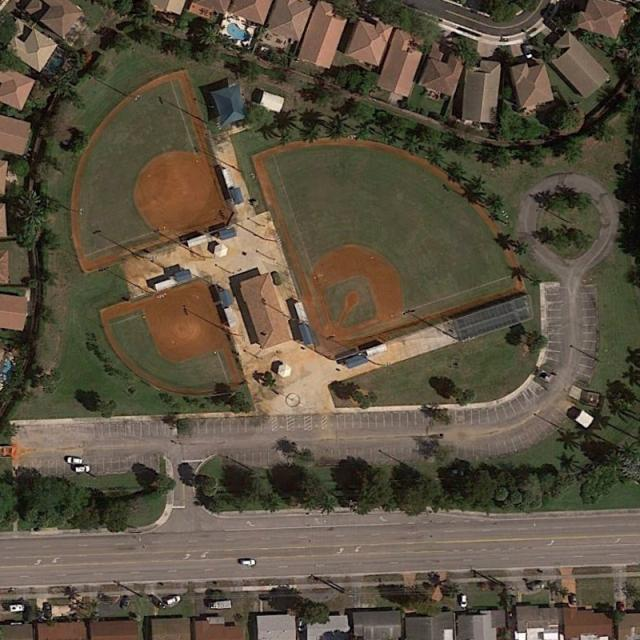vehicle: (210, 600, 232, 611), (119, 596, 132, 611), (42, 602, 53, 619), (66, 455, 82, 465), (166, 595, 181, 605), (529, 580, 544, 590), (447, 468, 465, 476), (74, 465, 90, 473), (617, 602, 626, 616), (569, 593, 578, 606), (241, 559, 257, 566), (298, 617, 306, 630), (460, 594, 467, 608)
